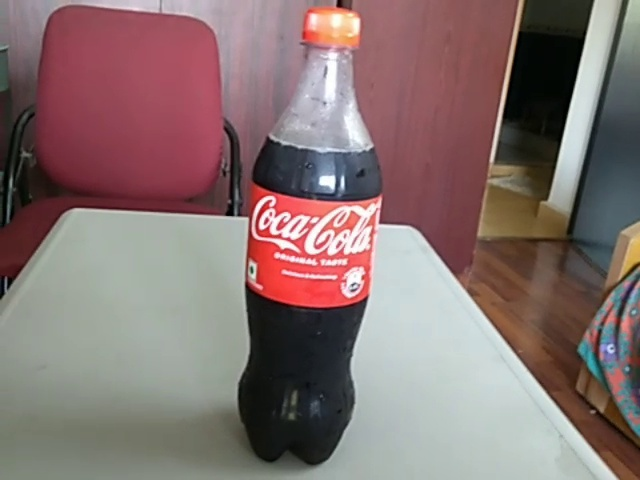Cocacola: (240, 4, 394, 465)
